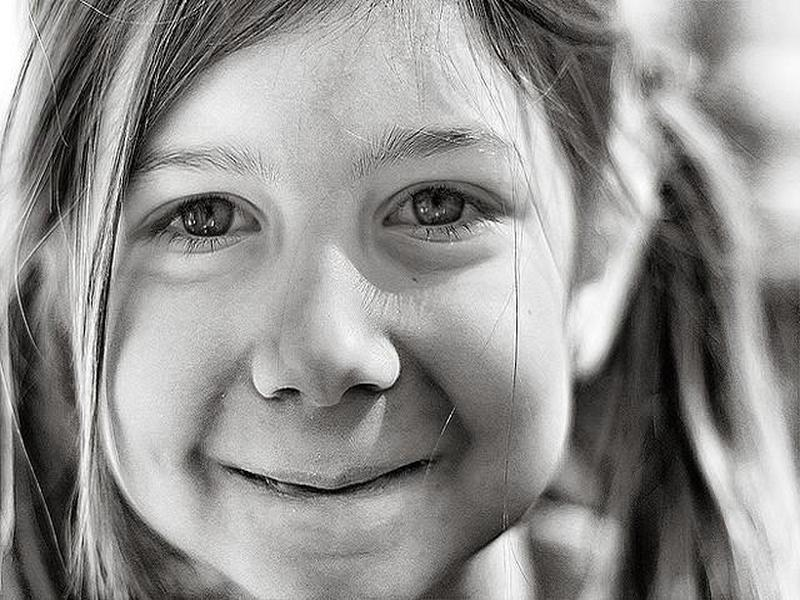person: (18, 1, 609, 600)
